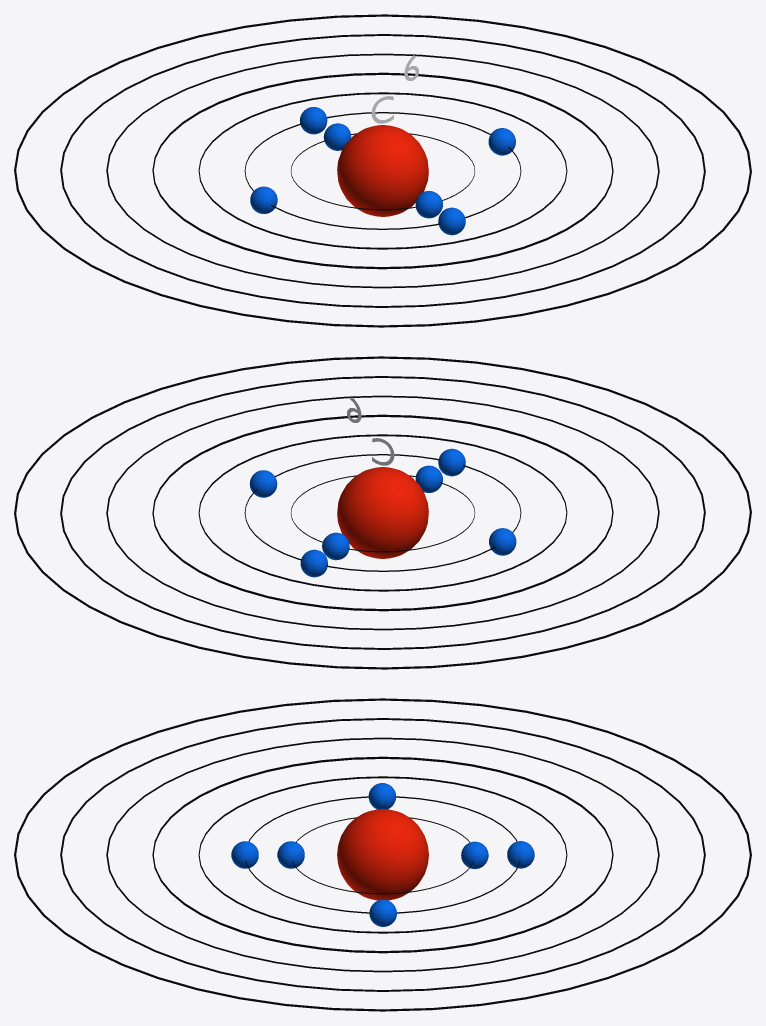
3 renders of one model, top to bottom at view 1: azimuth 30°, elevation 25°; view 2: azimuth 150°, elevation 25°; view 3: azimuth 270°, elevation 25°, orthographic.
Visible parts, largest first — view 1: Proton, n7, n6, n5, n4, C2, n3, C1, n2; view 2: Proton, n7, n6, n5, n4, C2, n3, C1, n2; view 3: Proton, n7, n6, n5, n4, C2, n3, C1, n2, n1.
Boxes of the visible parts, x1,y1,x2,y2 form: Proton: [337, 125, 428, 216]; n7: [14, 14, 751, 327]; n6: [60, 34, 705, 307]; n5: [106, 53, 659, 288]; n4: [152, 72, 613, 269]; C2: [250, 107, 515, 235]; n3: [198, 92, 567, 249]; C1: [323, 123, 442, 218]; n2: [244, 112, 521, 229]; Proton: [337, 467, 428, 558]; n7: [14, 356, 751, 669]; n6: [60, 376, 705, 649]; n5: [106, 395, 659, 630]; n4: [152, 414, 613, 611]; C2: [249, 448, 516, 577]; n3: [198, 434, 567, 591]; C1: [322, 465, 442, 560]; n2: [244, 454, 521, 571]; Proton: [337, 809, 428, 900]; n7: [14, 698, 751, 1011]; n6: [60, 718, 705, 991]; n5: [106, 737, 659, 972]; n4: [152, 756, 613, 953]; C2: [231, 783, 534, 926]; n3: [198, 776, 567, 933]; C1: [277, 841, 488, 869]; n2: [245, 796, 520, 913]; n1: [292, 817, 473, 894].
Bounding box in the file's own units: 802 × 180 × 802.
